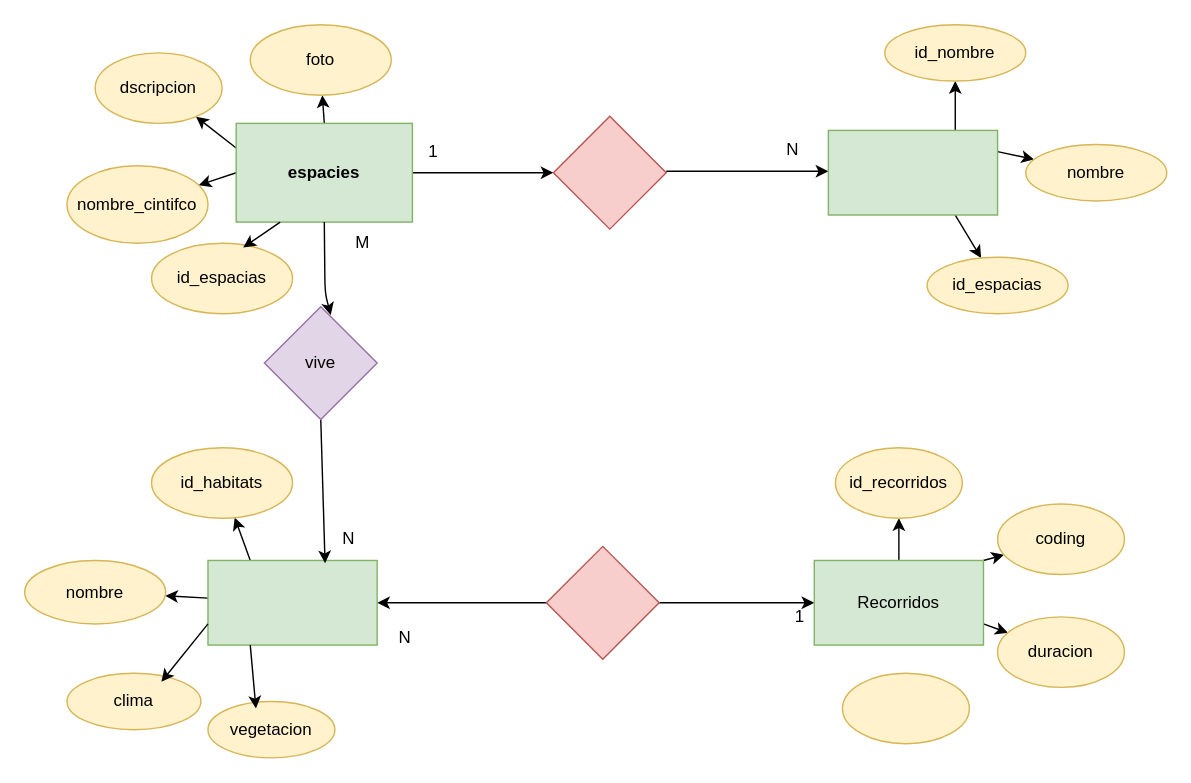
The diagram is 1191 pixels wide and 783 high, and some of its shapes have lost their labels. Here are the shapes that lost their labels. From the top down, the centre of each, then its label:
point 609,172: tiene
point 912,172: nombre_comun
point 292,602: habitats
point 602,602: recorri..
